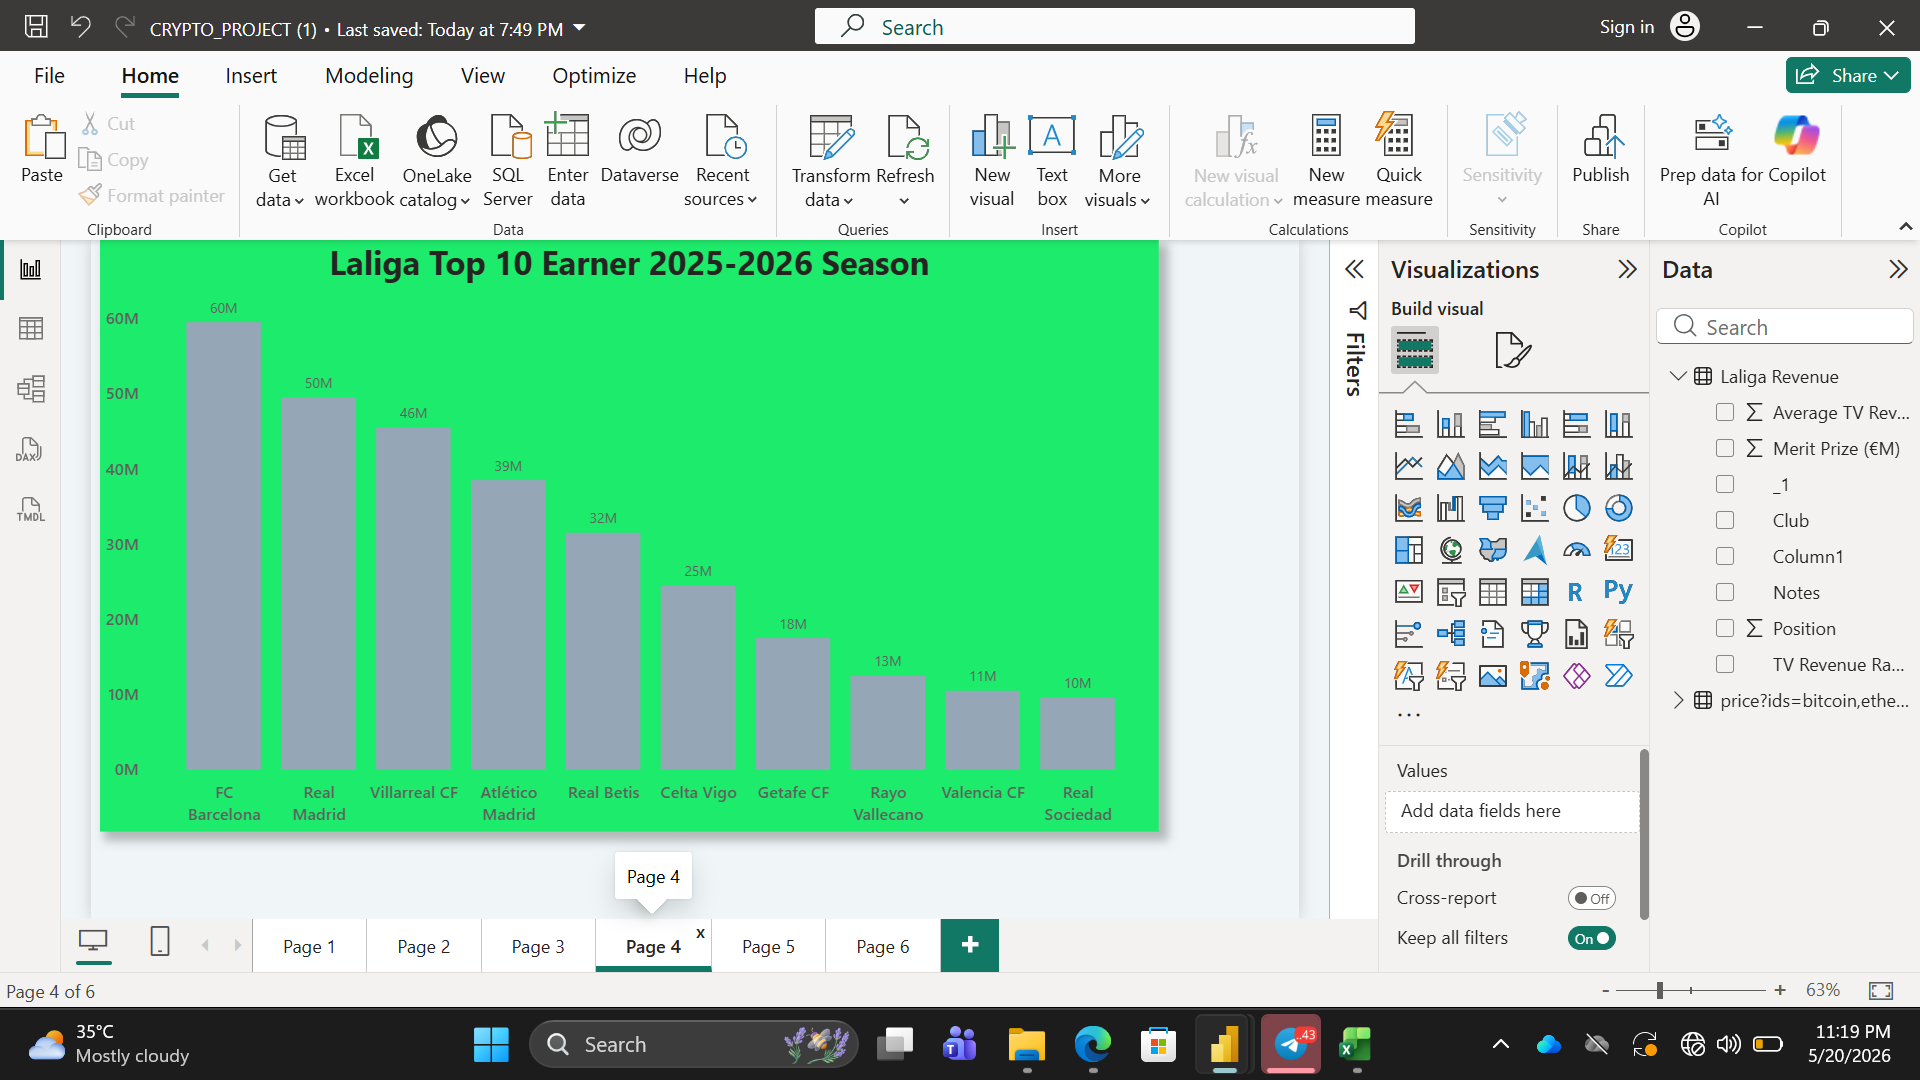

The page's visual inventory and layout, read from the dashboard file:
{"tool":"powerbi","page":{"name":"Page 4","canvas":[1280,720],"ordinal":3},"visuals":[{"type":"columnChart","title":"Laliga Top 10 Earner 2025-2026 Season","fields":{"Category":["Laliga Revenue.Club"],"Y":["Sum(Laliga Revenue. Merit Prize (€M) )"]},"box":[9.4,0,1122.5,627.4],"z":0}]}

Visuals, with their boxes on the page's 1280x720 design canvas (x1, y1, x2, y2). These are canvas units, not pixel positions in the 1920x1080 screenshot, which may show the page scaled, cropped or inside an application window:
"Laliga Top 10 Earner 2025-2026 Season" columnChart: BBox(9, 0, 1132, 627)
